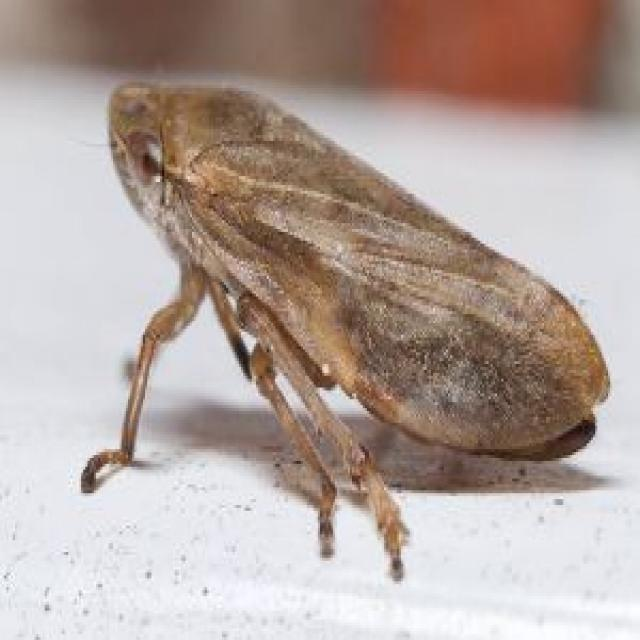Yechan: (72, 66, 628, 490)
